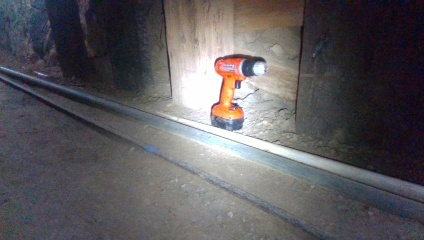drill: (209, 55, 269, 132)
